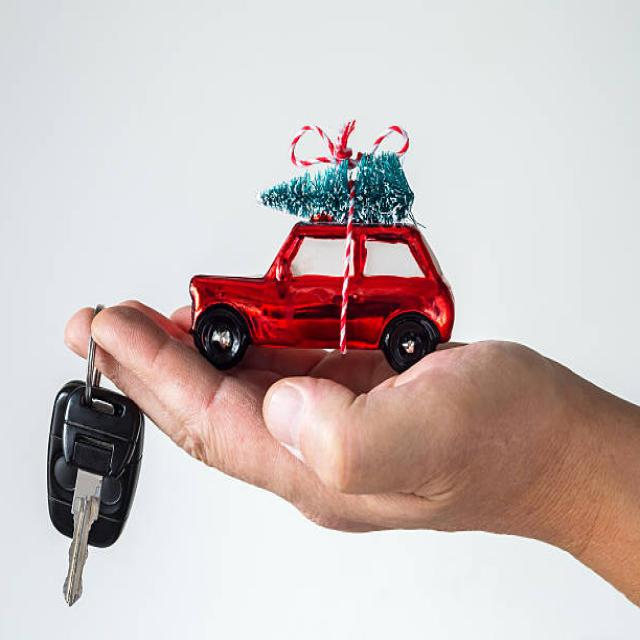Car: (189, 218, 456, 374)
